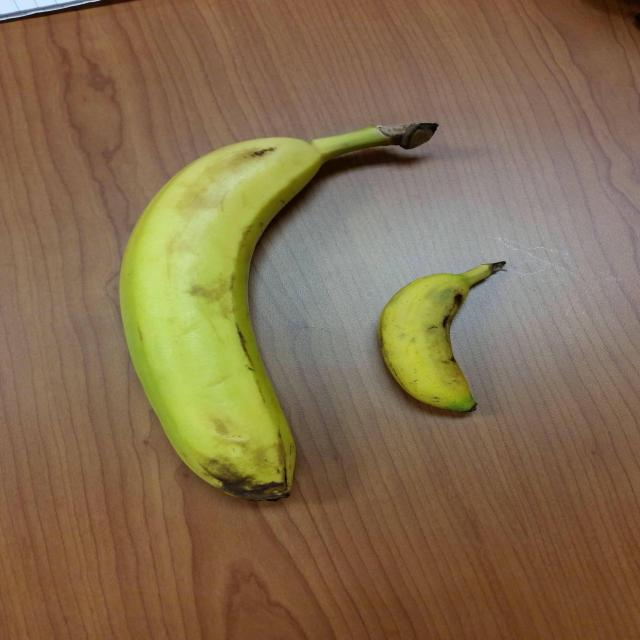Banana: (117, 116, 425, 502), (384, 260, 509, 414)
